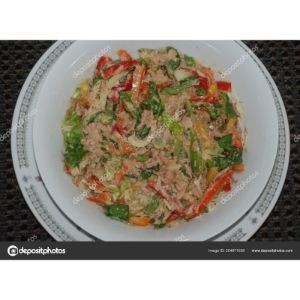tuna_brain food: (68, 52, 233, 223)
